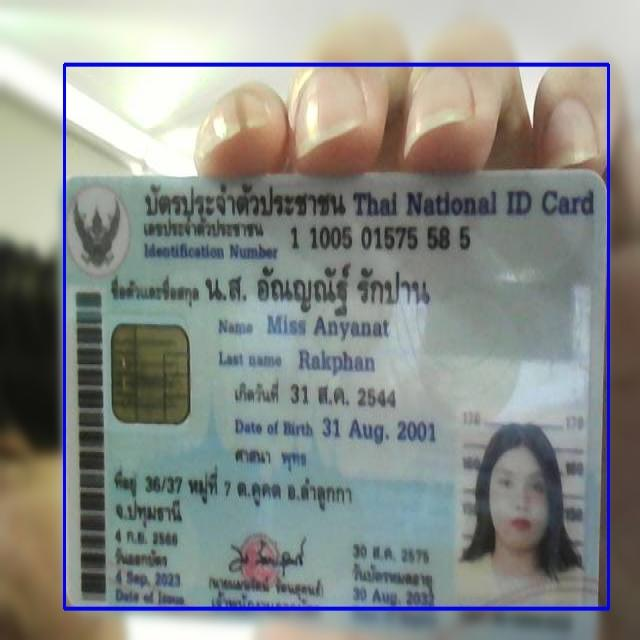Address_th: (106, 459, 372, 532)
Date_of_Birth: (318, 411, 439, 448)
Date_of_Expiry: (349, 583, 436, 609)
Date_of_Issue: (111, 564, 190, 592)
First_Name: (263, 312, 394, 344)
ID_Number: (286, 218, 479, 258)
Image: (457, 402, 582, 608)
Last_Name: (295, 344, 378, 379)
Thai_Name: (201, 260, 434, 316)
